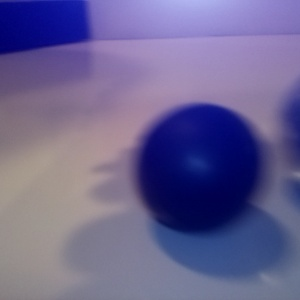alive_ball: (98, 17, 159, 82), (230, 18, 264, 53)
dead_ball: (195, 18, 229, 52)
